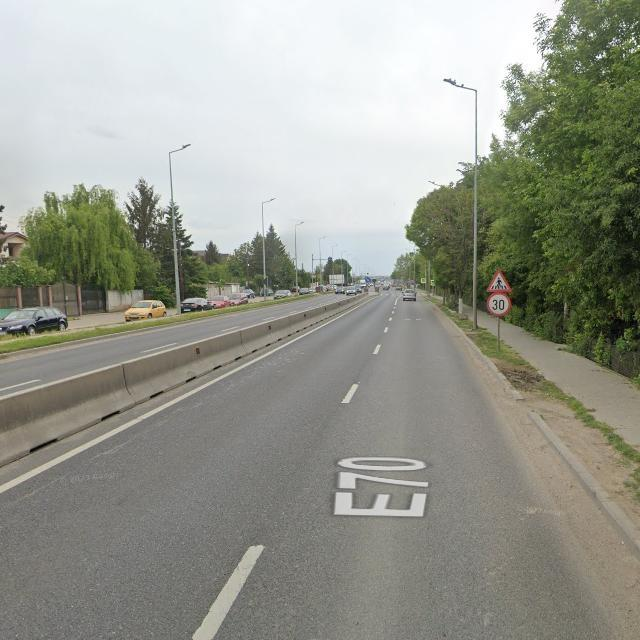forb_speed_over_30: (490, 292, 511, 318)
warn_crosswalk: (485, 269, 511, 293)
